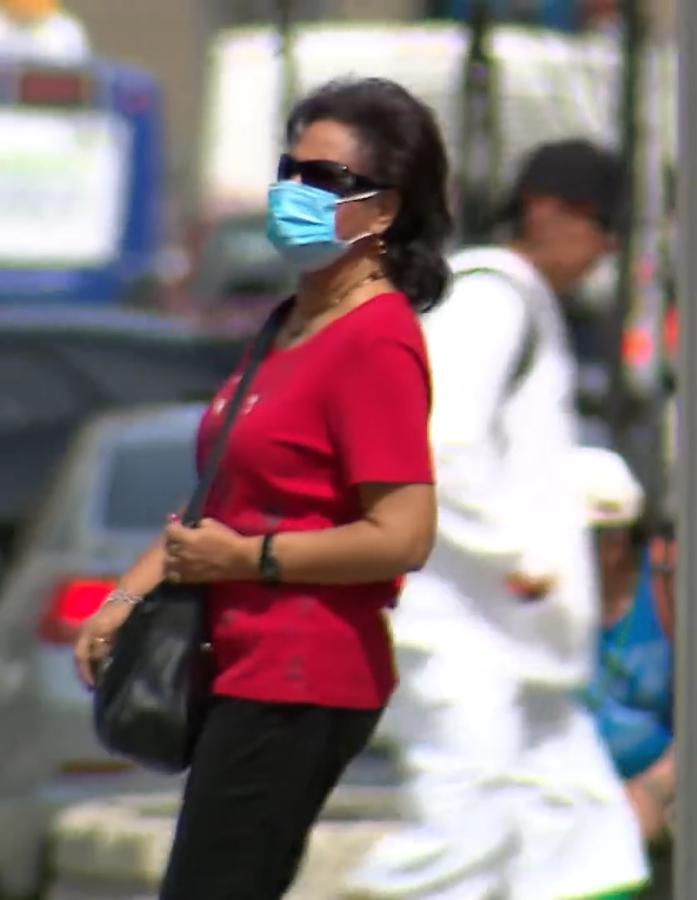with_mask: (280, 163, 364, 253)
without_mask: (543, 210, 615, 269)
